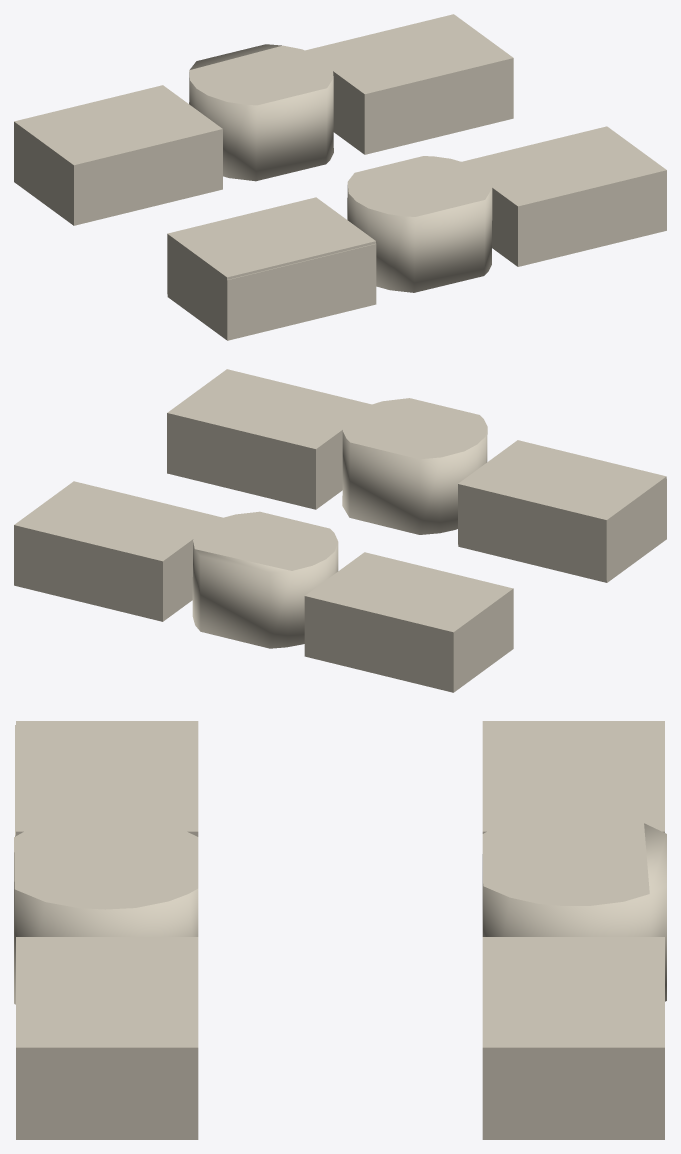
The model's file is bluerov2_heavy_215_208_192_001.obj.
3 views of the same model, one above another, from view 1: azimuth 30°, elevation 25°; view 2: azimuth 150°, elevation 25°; view 3: azimuth 270°, elevation 25° (orthographic). The views are drawn at different scales.
Parts seen in each view (by area): view 1: BROV2-HEAVY-45.014_BROV2-HEAVY-45.015; view 2: BROV2-HEAVY-45.014_BROV2-HEAVY-45.015; view 3: BROV2-HEAVY-45.014_BROV2-HEAVY-45.015.
Boxes of the visible parts, x1=… form: BROV2-HEAVY-45.014_BROV2-HEAVY-45.015: x1=14, y1=14, x2=666, y2=340; BROV2-HEAVY-45.014_BROV2-HEAVY-45.015: x1=14, y1=369, x2=666, y2=692; BROV2-HEAVY-45.014_BROV2-HEAVY-45.015: x1=14, y1=721, x2=666, y2=1139.
Size of the model in its own units: 14.36 by 2.44 by 12.12.
